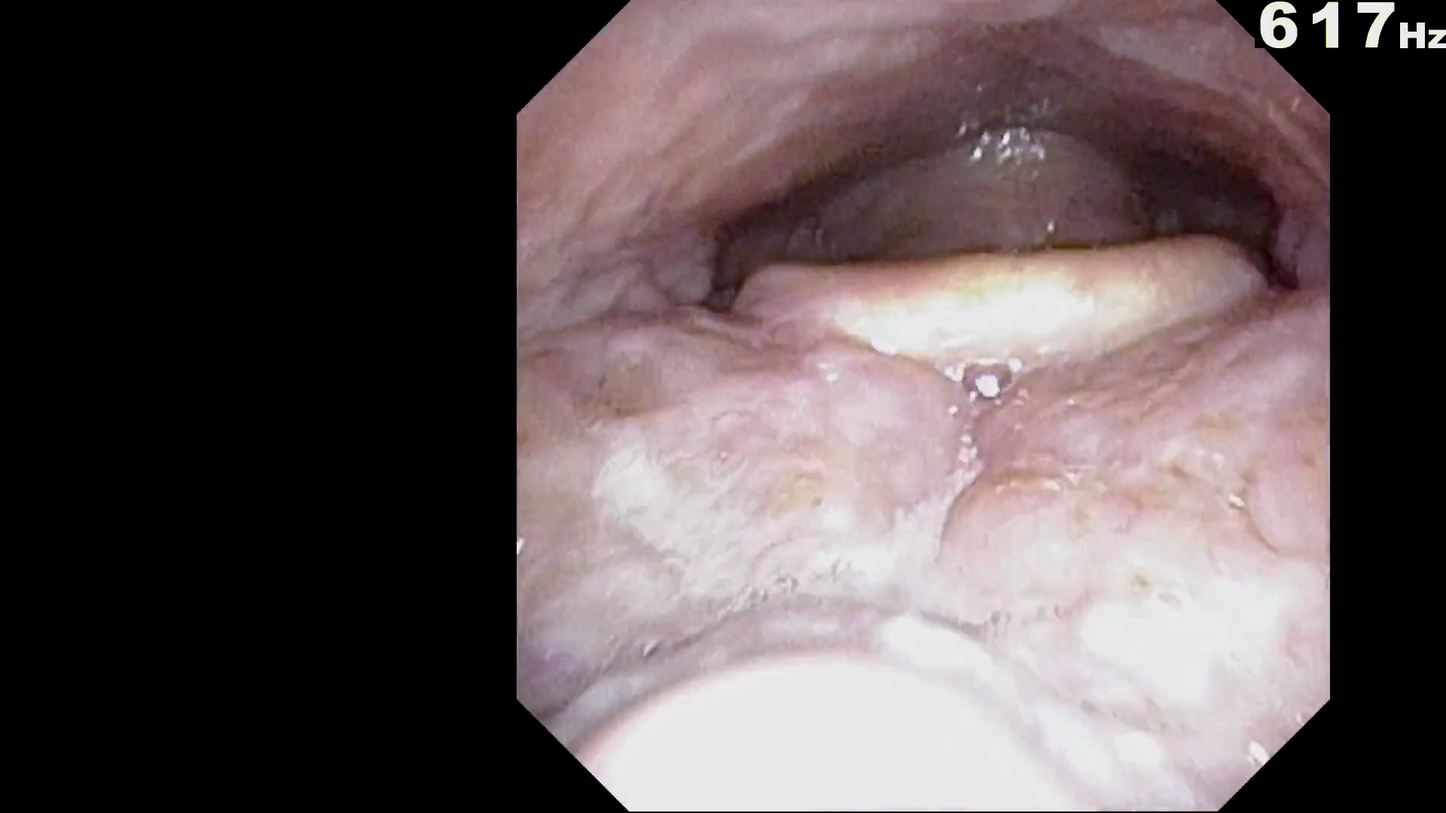epiglottis: (725, 242, 1286, 495)
trachea: (959, 228, 1054, 314)
